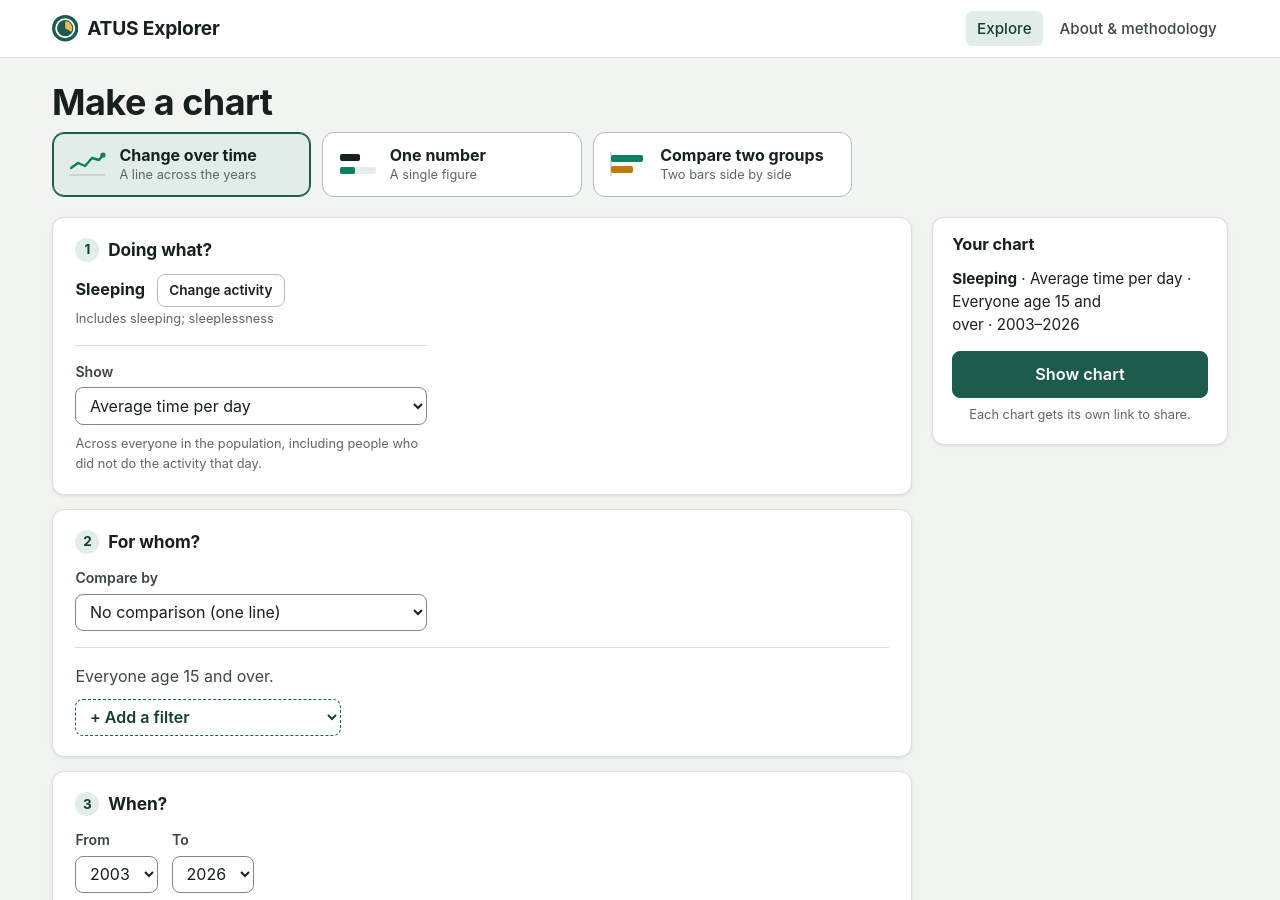
a new survey year arrives through /meta alone (§15) › the explore page offers 2026 in every year control, and defaults to it
Check: the button "Show chart" is shown, box [952,351,1208,398]
Check: the dropdown labelled "From" shows "2003", box [75,856,158,893]
Single year: every reported year, newest first, 2026 preselected.
Click the radio button labelled "One number".
click(452, 164)  # box [322,132,582,197]
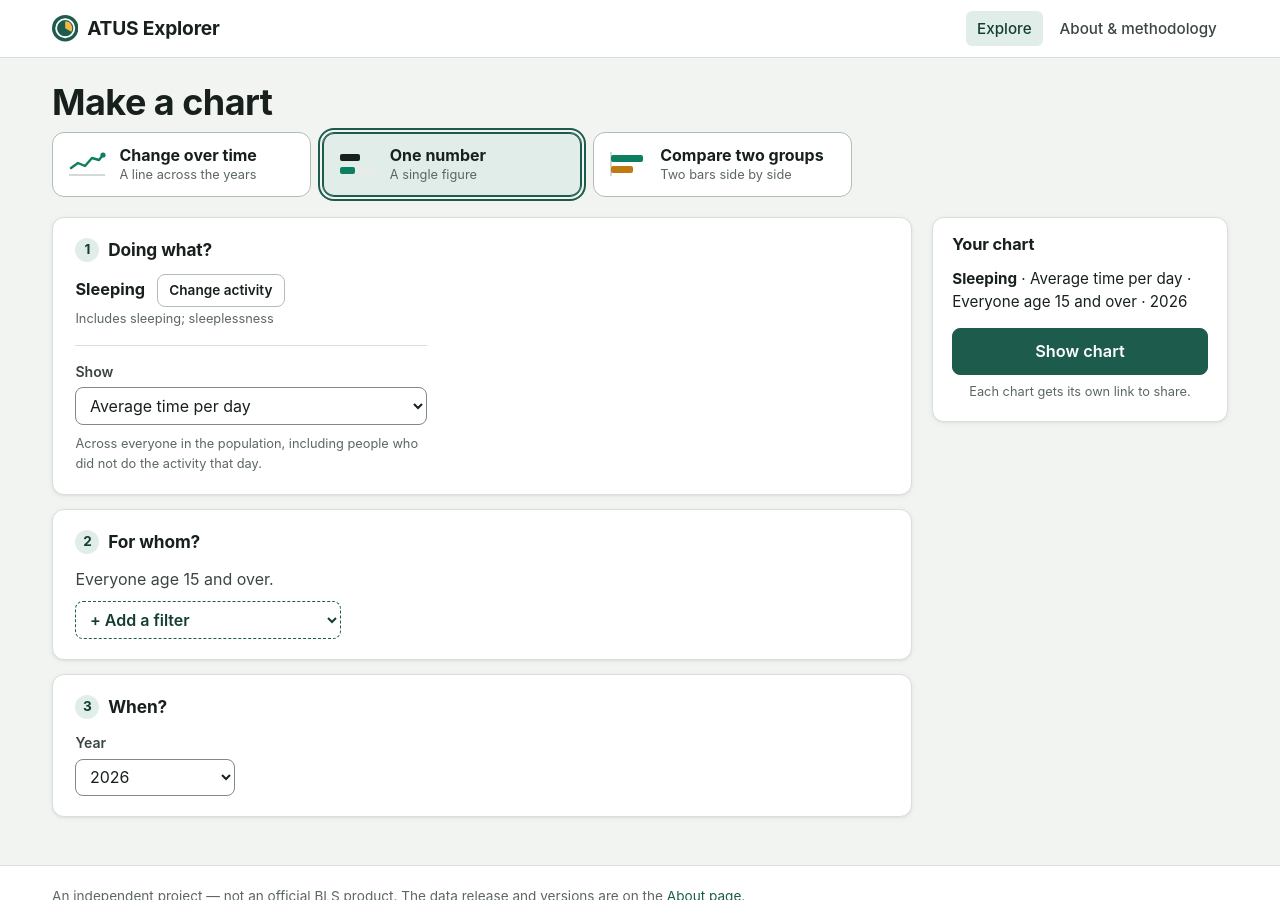
Check: the dropdown labelled "Year" shows "2026", box [75,759,235,796]
